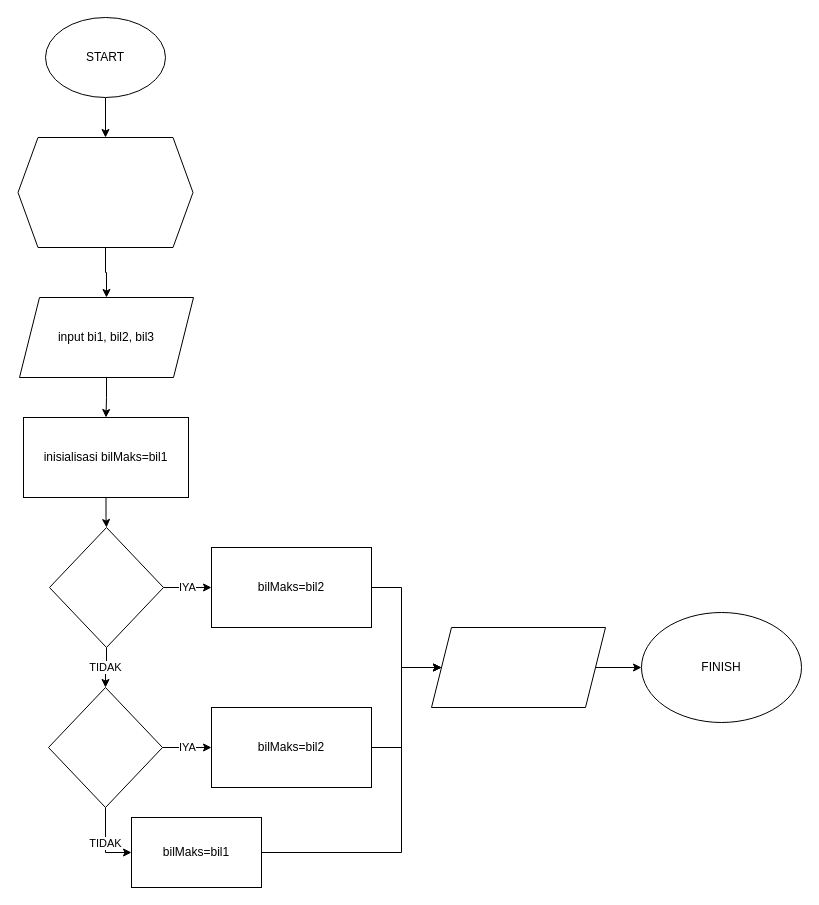
This 819x905 diagram has some shape labels left out. Here are the shapes that lost their labels. From the top down, the centre of each, then its label:
At point 105,192: "int bil1=28, bil2=54, bil3=15, bilMaks".
At point 106,587: "bil2 > bilMaks".
At point 518,667: "output bilMaks".
At point 105,747: "bil3 > bilMaks".
